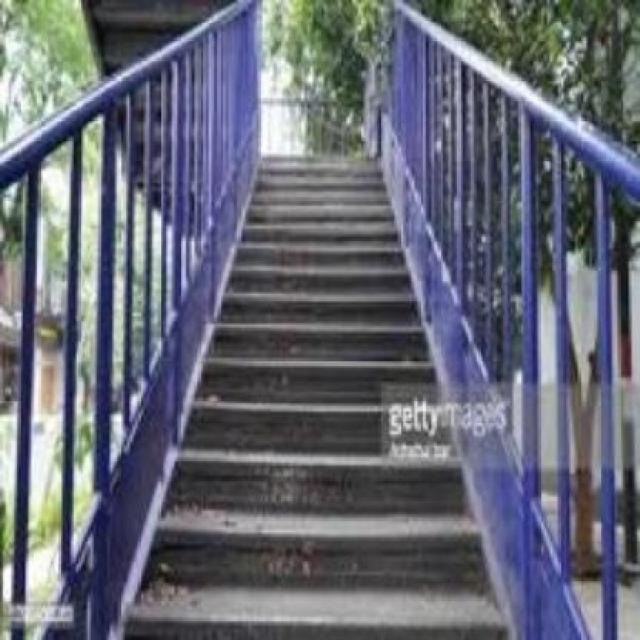stair: (134, 149, 503, 640)
